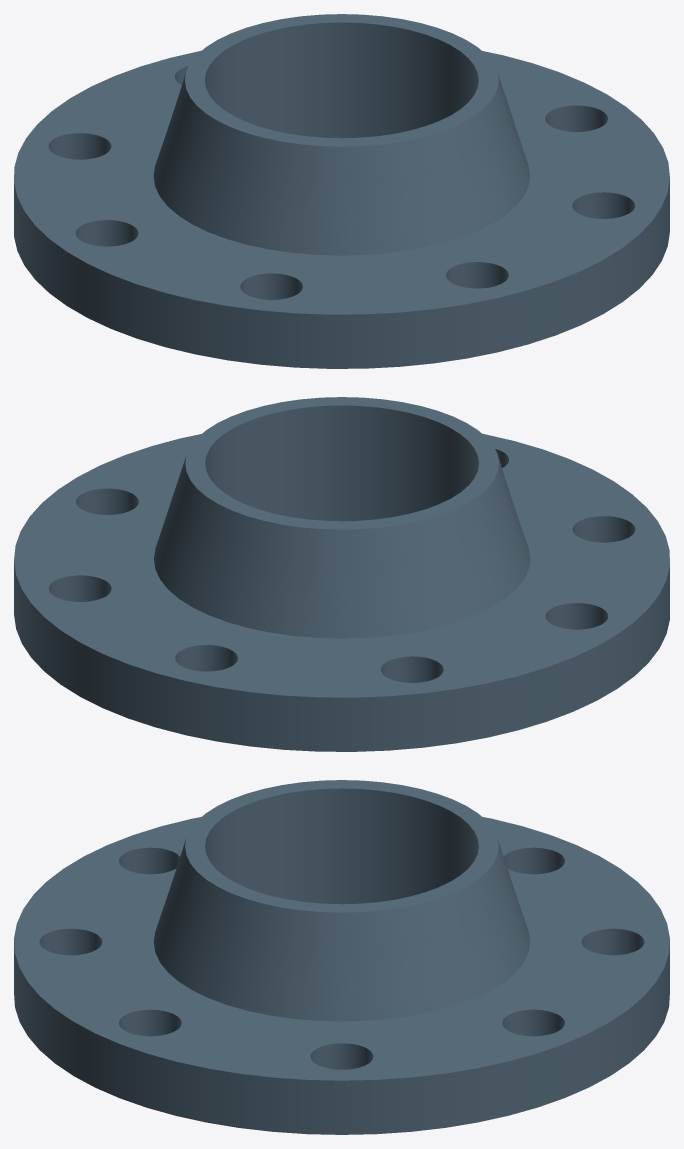
Rendered from flanec-vorotnikovyj-DN100-PN25.glb.
The picture shows the model from 3 angles, top to bottom: view 1: azimuth 30°, elevation 25°; view 2: azimuth 150°, elevation 25°; view 3: azimuth 270°, elevation 25°; orthographic projection.
Parts seen in each view (by area): view 1: Open CASCADE STEP translator 7.9 87; view 2: Open CASCADE STEP translator 7.9 87; view 3: Open CASCADE STEP translator 7.9 87.
Boxes of the visible parts, left/top/right/bottom form: Open CASCADE STEP translator 7.9 87: left=14, top=14, right=669, bottom=368; Open CASCADE STEP translator 7.9 87: left=14, top=397, right=669, bottom=751; Open CASCADE STEP translator 7.9 87: left=14, top=780, right=669, bottom=1134.
Bounding box in the file's own units: 230 × 61 × 230.
